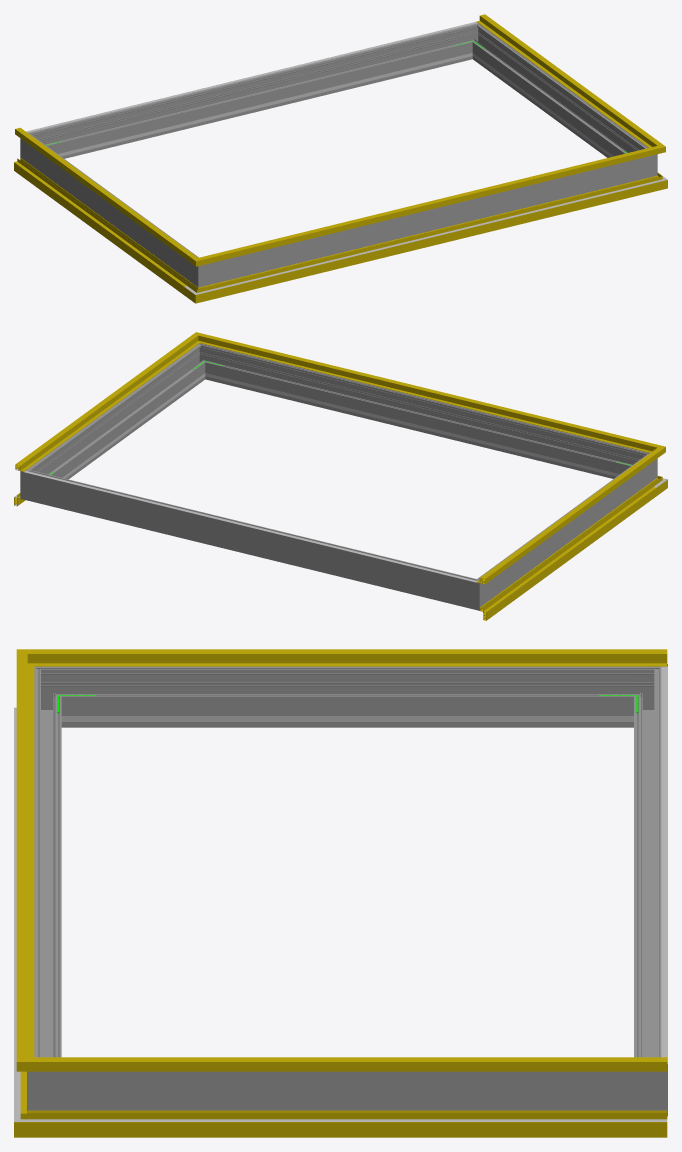
3 views of the same model, one above another, from view 1: azimuth 30°, elevation 25°; view 2: azimuth 150°, elevation 25°; view 3: azimuth 270°, elevation 25° (orthographic). The views are drawn at different scales.
Parts seen in each view (by area): view 1: 3DGeom-276, 3DGeom-298, 3DGeom-90, 3DGeom-297, 3DGeom-123, 3DGeom-268, 3DGeom-85, 3DGeom-128, 3DGeom-118, 3DGeom-244, 3DGeom-220, 3DGeom-100 (+6 smaller); view 2: 3DGeom-298, 3DGeom-276, 3DGeom-297, 3DGeom-123, 3DGeom-268, 3DGeom-85, 3DGeom-128, 3DGeom-118, 3DGeom-239, 3DGeom-220, 3DGeom-278, 3DGeom-284 (+3 smaller); view 3: 3DGeom-268, 3DGeom-297, 3DGeom-97, 3DGeom-118, 3DGeom-276, 3DGeom-298, 3DGeom-128, 3DGeom-123, 3DGeom-232, 3DGeom-220, 3DGeom-98, 3DGeom-290 (+7 smaller).
Boxes of the visible parts, x1,y1,x2,y2 form: 3DGeom-276: [42, 27, 469, 158]; 3DGeom-298: [218, 159, 637, 282]; 3DGeom-90: [211, 179, 648, 298]; 3DGeom-297: [474, 30, 642, 157]; 3DGeom-123: [213, 149, 646, 261]; 3DGeom-268: [31, 140, 192, 278]; 3DGeom-85: [14, 157, 190, 294]; 3DGeom-128: [476, 14, 654, 145]; 3DGeom-118: [15, 127, 189, 257]; 3DGeom-244: [65, 57, 453, 155]; 3DGeom-220: [26, 21, 477, 132]; 3DGeom-100: [214, 183, 647, 290]; 3DGeom-298: [208, 347, 635, 478]; 3DGeom-276: [40, 473, 463, 605]; 3DGeom-297: [35, 350, 203, 479]; 3DGeom-123: [211, 337, 645, 450]; 3DGeom-268: [485, 460, 646, 598]; 3DGeom-85: [479, 483, 656, 620]; 3DGeom-128: [15, 340, 192, 471]; 3DGeom-118: [476, 454, 654, 584]; 3DGeom-239: [224, 377, 612, 475]; 3DGeom-220: [24, 471, 477, 582]; 3DGeom-278: [460, 573, 490, 610]; 3DGeom-284: [20, 464, 43, 503]; 3DGeom-268: [68, 666, 626, 727]; 3DGeom-297: [68, 1071, 626, 1110]; 3DGeom-97: [55, 1110, 667, 1137]; 3DGeom-118: [57, 649, 667, 666]; 3DGeom-276: [634, 681, 661, 1057]; 3DGeom-298: [34, 681, 61, 1057]; 3DGeom-128: [57, 1057, 667, 1071]; 3DGeom-123: [16, 666, 34, 1053]; 3DGeom-232: [101, 716, 594, 721]; 3DGeom-220: [661, 666, 667, 1064]; 3DGeom-98: [55, 1119, 667, 1121]; 3DGeom-290: [27, 1049, 68, 1110].
Size of the model in its own units: 3.66 by 0.3069 by 2.44.
